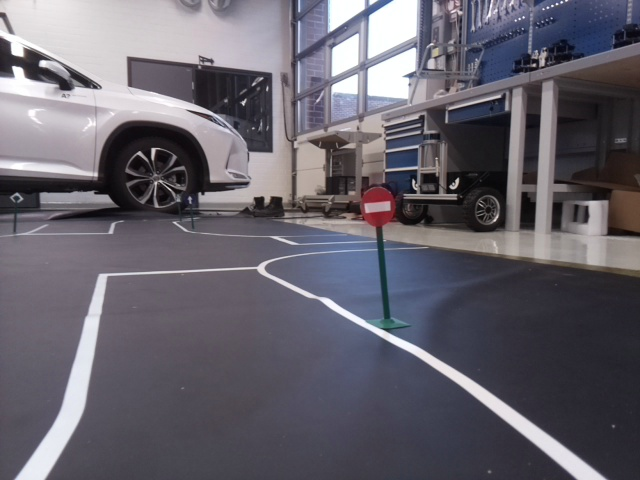NoEntry: (358, 187, 394, 225)
OneWay: (184, 193, 195, 204)
